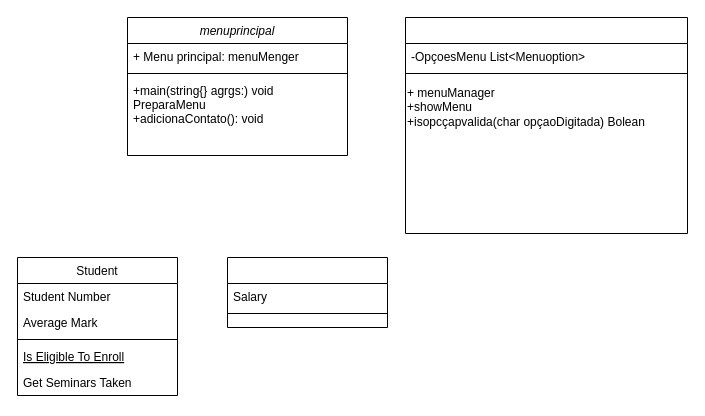
Image size: 705x416. Some labels were removed from this diagram. The box of each missing label's shape, as (x1, y1, x2, y2) in pixels:
MenuMenger: (404, 16, 688, 234)
Professor: (226, 256, 388, 328)
